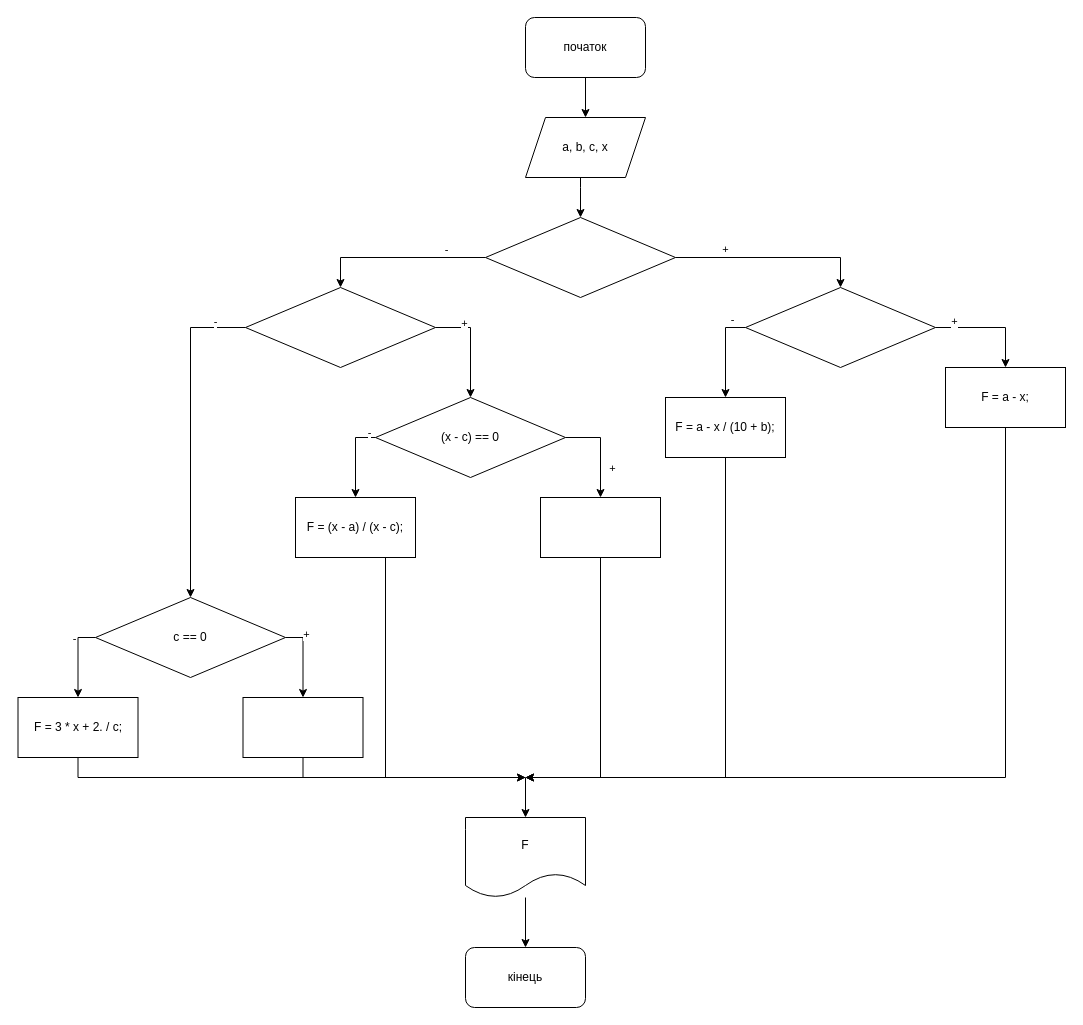
The diagram is 1083 pixels wide and 1025 high, and some of its shapes have lost their labels. Here are the shapes that lost their labels. From the top down, the box of each, then its label:
(484, 216, 676, 298): (x < 0) && (b != 0)
(244, 286, 436, 368): (x > 0) && (b == 0)
(744, 286, 936, 368): b == -10
(540, 496, 660, 558): F = x - a;
(242, 696, 363, 758): F = 3 * x + 2;
